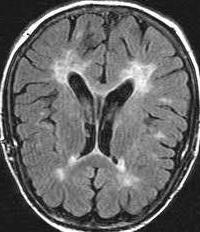Normal_Brain: (7, 1, 200, 232)
